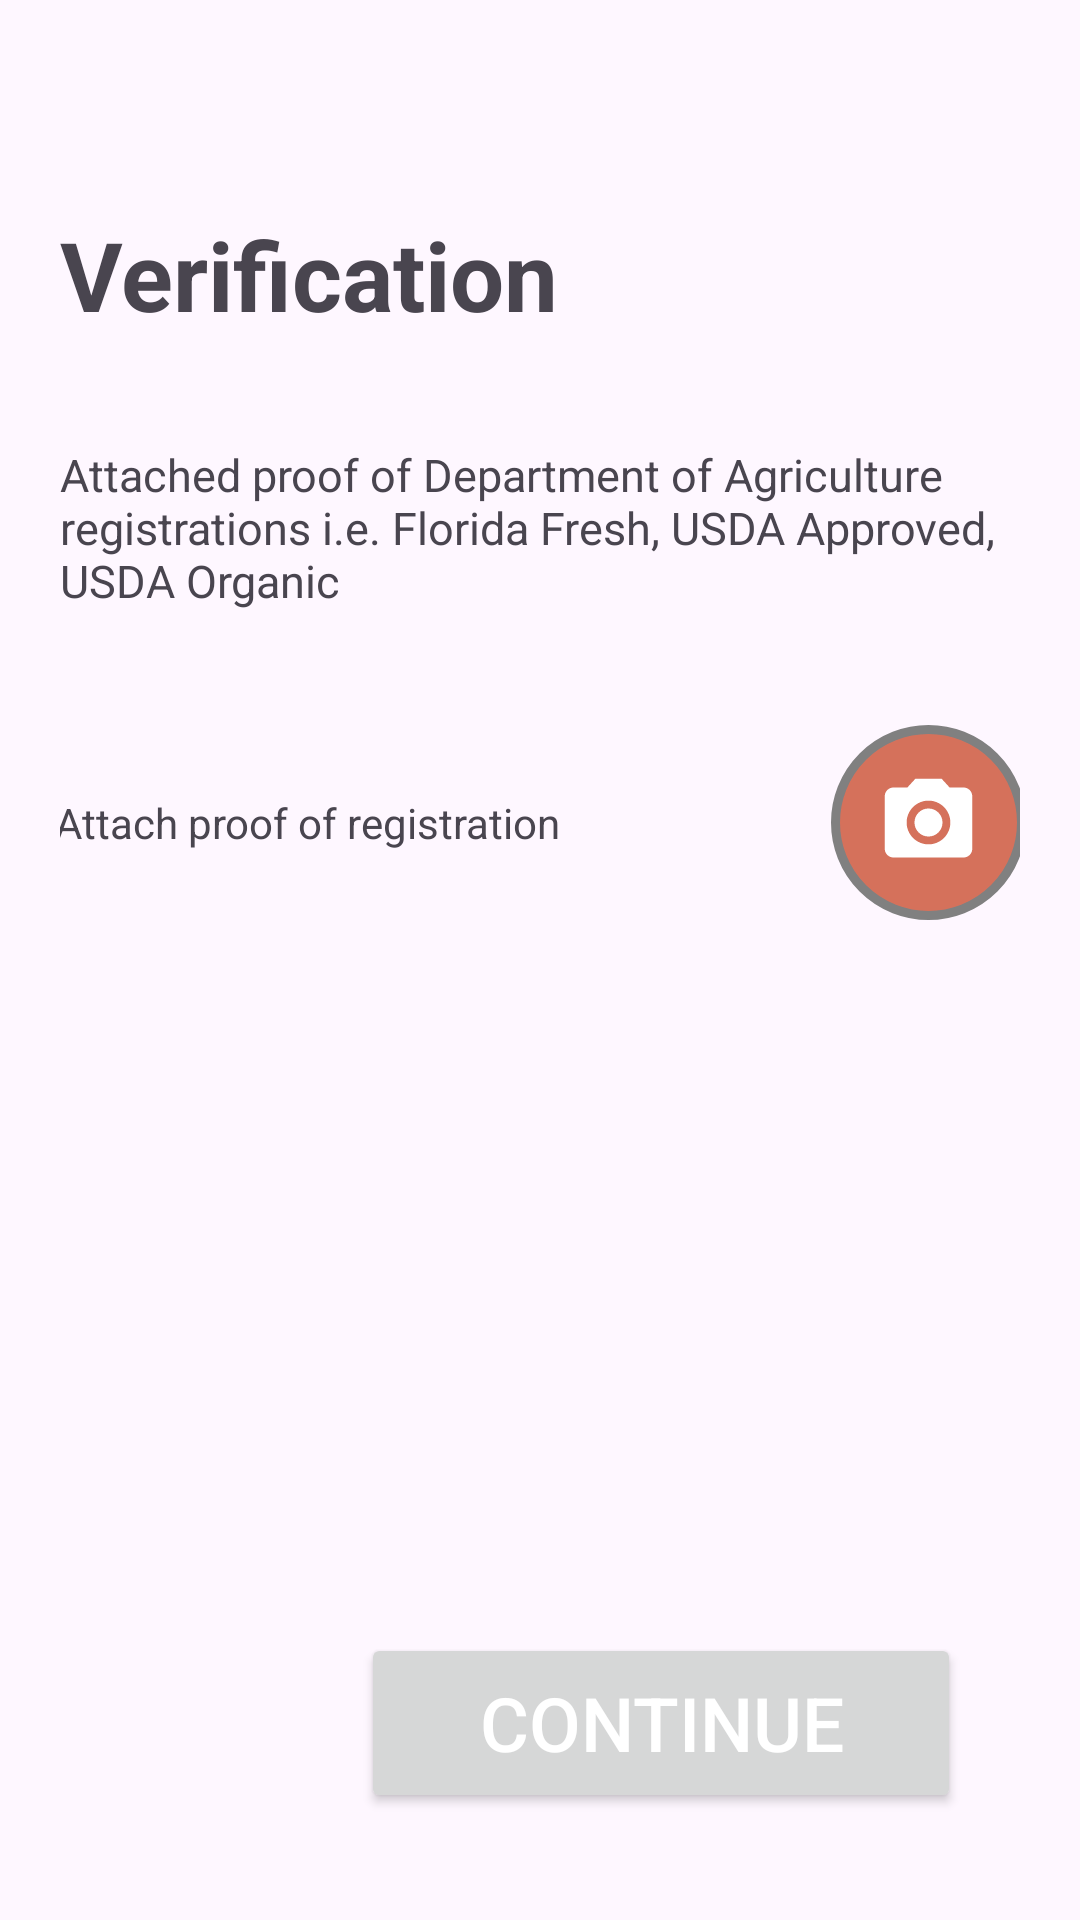

Icons on this 1080px x 1920px Android screen, each with its box as detection(x1, y1, x2, y2):
camera: detection(884, 778, 973, 858)
